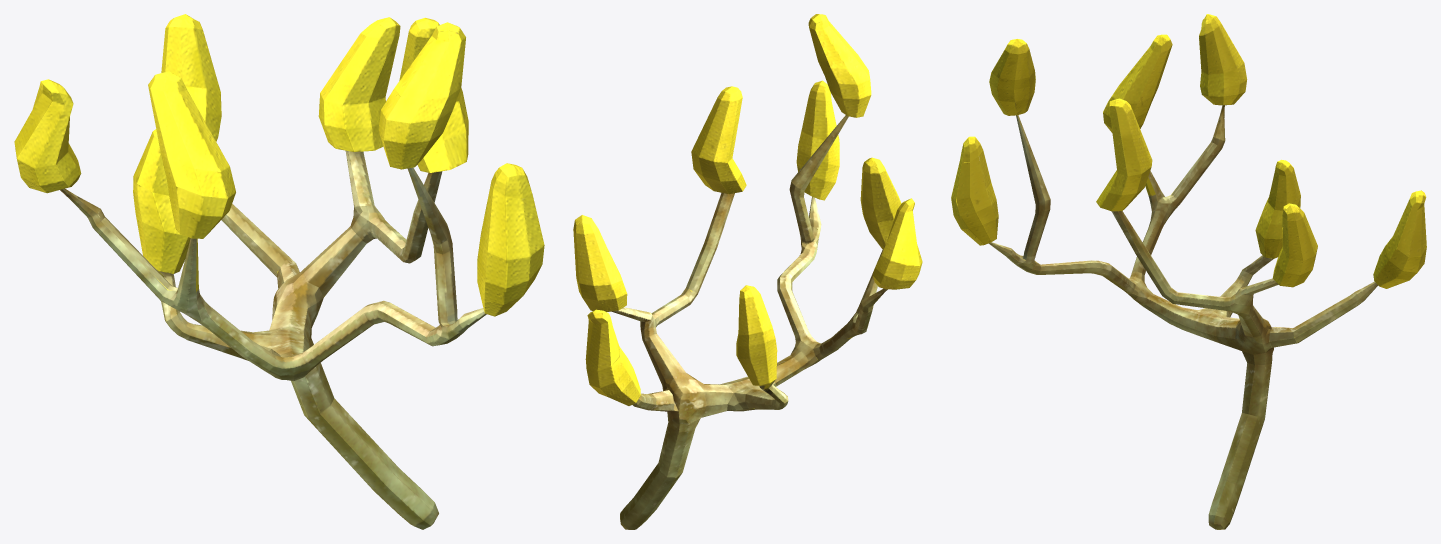
Rendered from Mushroom01.glb.
3 renders of one model, left to right at view 1: azimuth 30°, elevation 25°; view 2: azimuth 150°, elevation 25°; view 3: azimuth 270°, elevation 25°, orthographic. The views are drawn at different scales.
Parts seen in each view (by area): view 1: Cube.002; view 2: Cube.002; view 3: Cube.002.
Boxes of the visible parts, bbox=[...] form: Cube.002: bbox=[14, 14, 544, 529]; Cube.002: bbox=[573, 14, 922, 529]; Cube.002: bbox=[951, 14, 1426, 529].
Size of what is drawn, in the model's own units: 1.06 by 1.5 by 1.44.
Materials: 1 (1 with a texture image).
